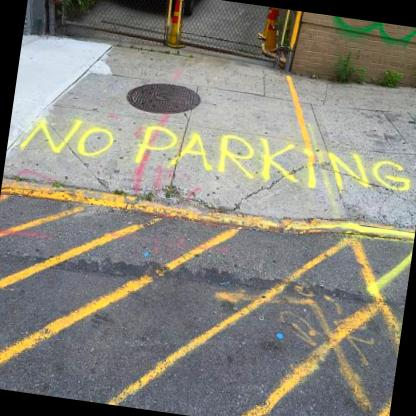manholes: (109, 52, 214, 134)
